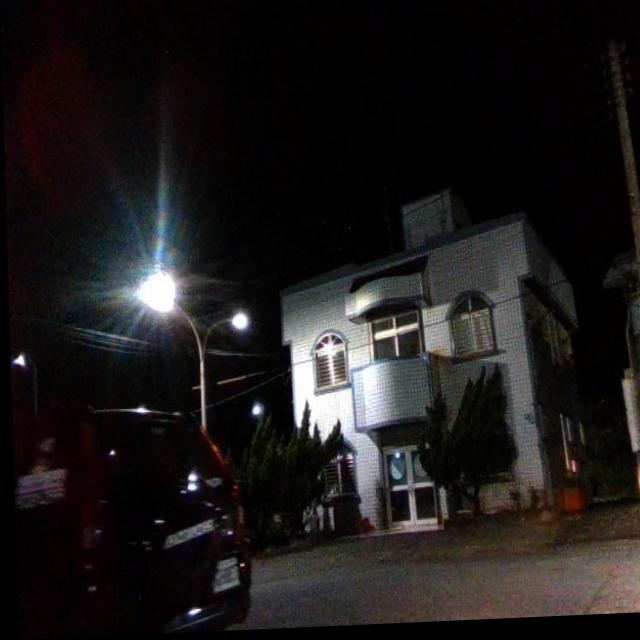pollute: (553, 485, 591, 523)
